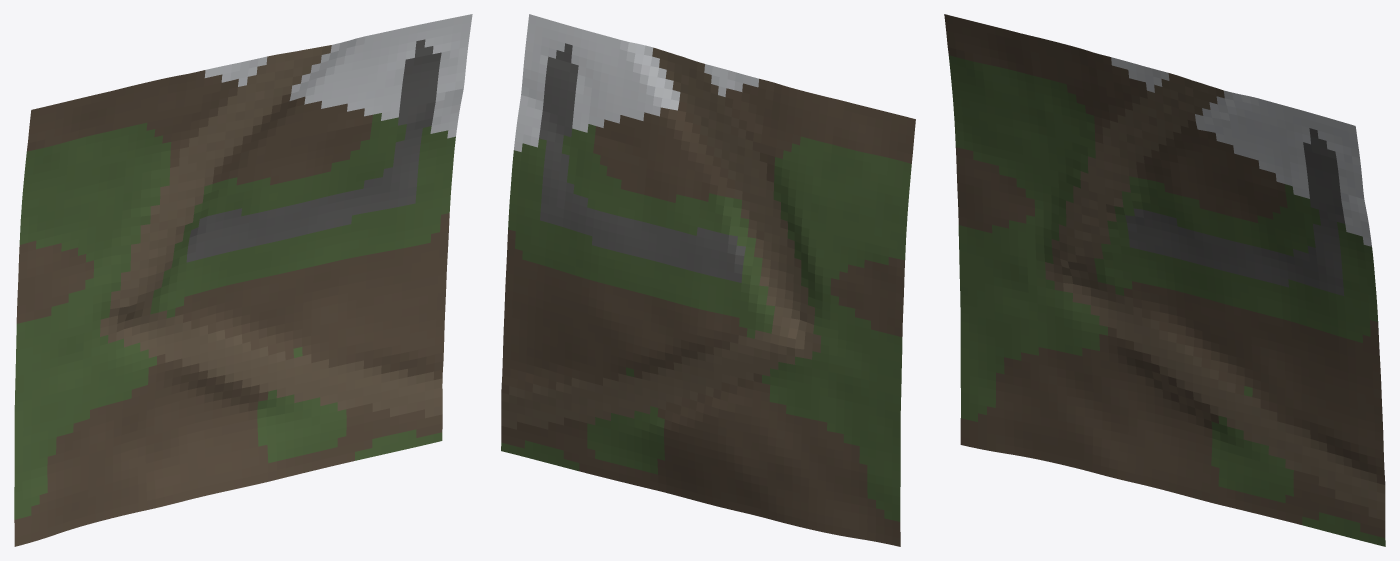
The model's file is SARM_SAR_Terrain_01_04.glb.
3 renders of one model, left to right at view 1: azimuth 30°, elevation 25°; view 2: azimuth 150°, elevation 25°; view 3: azimuth 330°, elevation 25°, orthographic. The views are drawn at different scales.
Visible parts, largest first — view 1: SAR_Terrain_01_04.001; view 2: SAR_Terrain_01_04.001; view 3: SAR_Terrain_01_04.001.
Boxes of the visible parts, box(x1,y1,x2,y2) form: SAR_Terrain_01_04.001: box(14, 14, 472, 546); SAR_Terrain_01_04.001: box(501, 14, 915, 546); SAR_Terrain_01_04.001: box(944, 14, 1385, 546).
Size of the model in its own units: 50 by 50 by 7.42.
